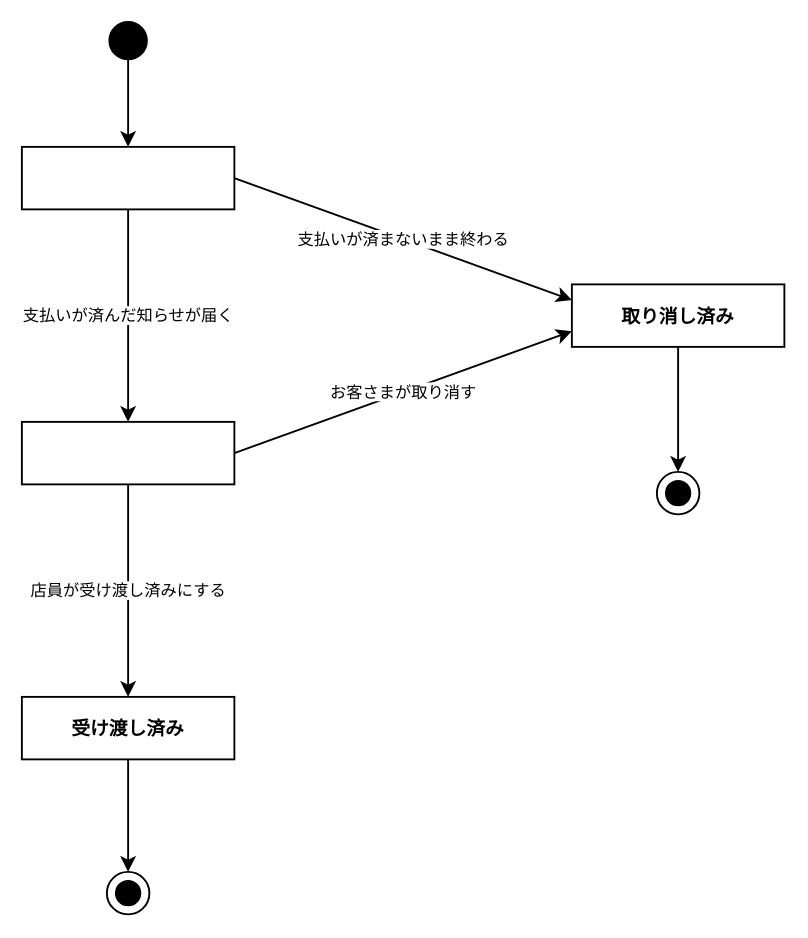
Image size: 808x938. Some labels were removed from this diagram. Here are the shapes that lost their labels. From the top down, the box of each, then its label:
(20, 145, 235, 210): 支払い待ち
(20, 420, 235, 485): 受け取り前
